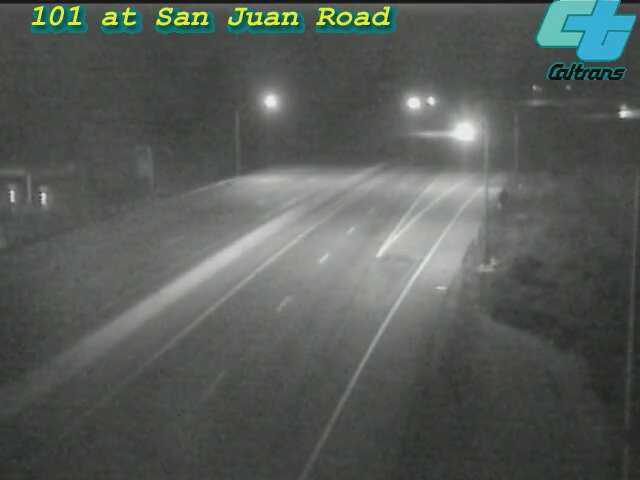vehicle: (441, 106, 491, 156), (605, 86, 640, 136)
